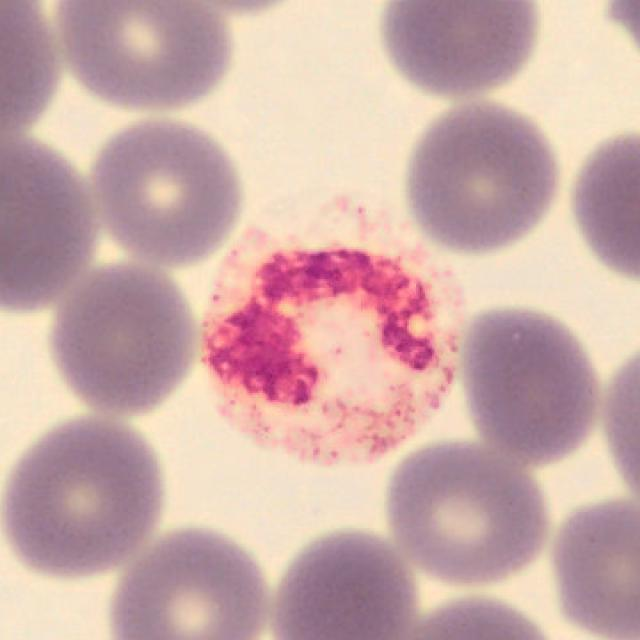Neutrofilo segmentado: (199, 185, 468, 469)
